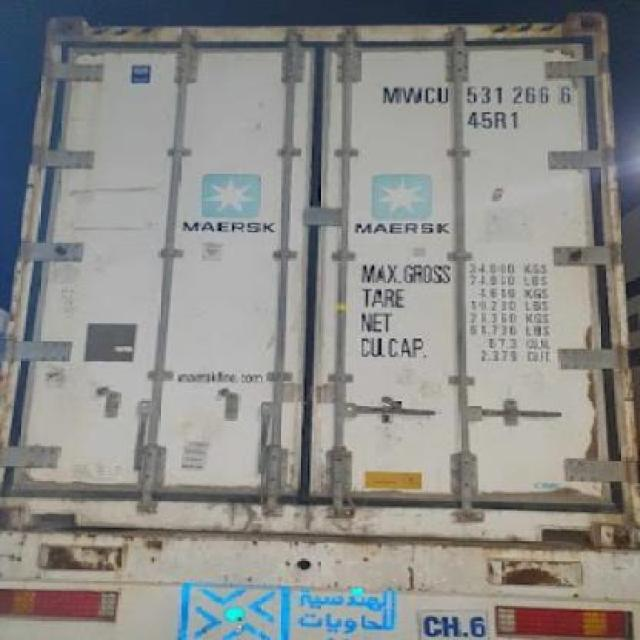ISO: (469, 111, 522, 130)
container_number: (387, 82, 564, 106)
